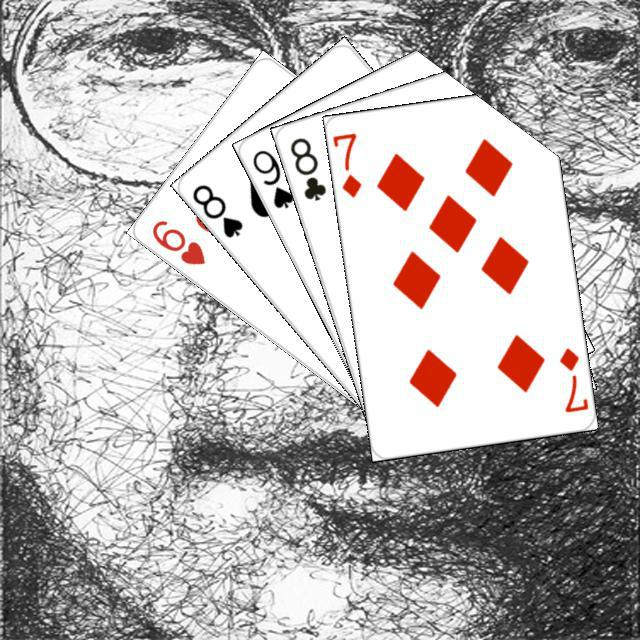6h: (146, 215, 207, 267)
7d: (554, 343, 588, 414), (330, 127, 363, 199)
8c: (285, 132, 328, 203)
8s: (187, 179, 245, 240)
9s: (247, 145, 296, 210)
